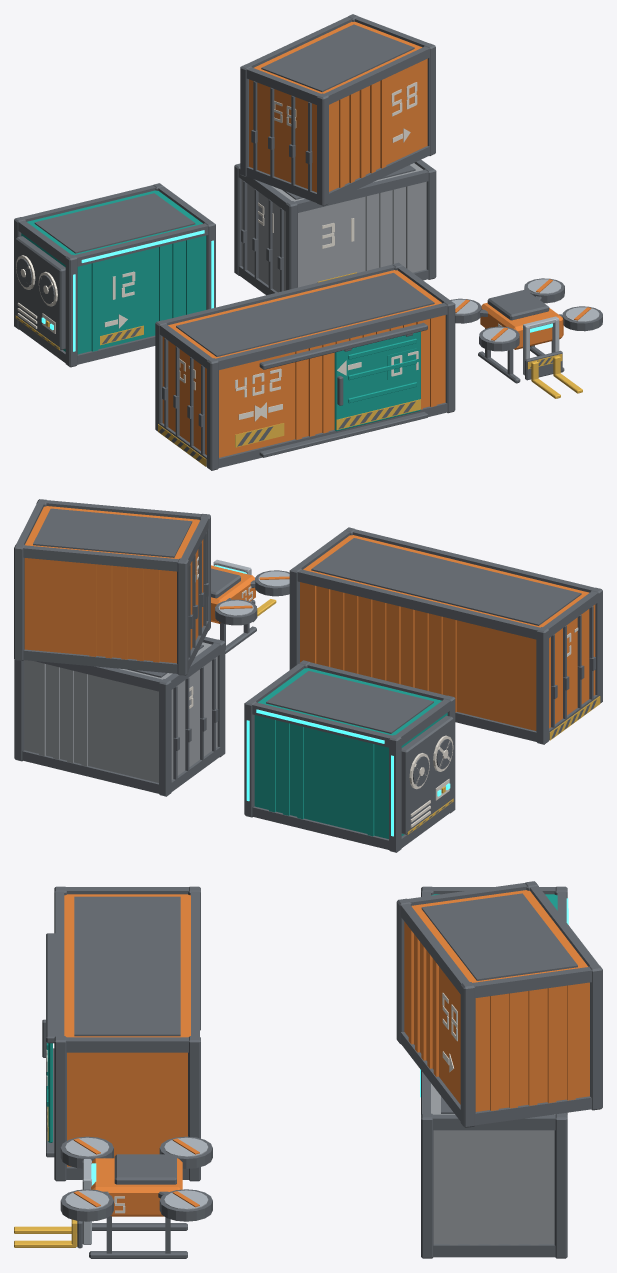
File: futuristic-cargo-container-set.glb
The picture shows the model from 3 angles, top to bottom: view 1: azimuth 30°, elevation 25°; view 2: azimuth 150°, elevation 25°; view 3: azimuth 270°, elevation 25°; orthographic projection. The views are drawn at different scales.
Parts seen in each view (by area): view 1: Container_Stack, Container_Long, Container_Reefer, Cargo_Drone, Door, ForkArm; view 2: Container_Stack, Container_Long, Container_Reefer, Cargo_Drone; view 3: Container_Stack, Container_Long, Cargo_Drone, ForkArm, Container_Reefer, Door.
Boxes of the visible parts, x1,y1,x2,y2 form: Container_Stack: [234, 14, 436, 295]; Container_Long: [155, 262, 455, 470]; Container_Reefer: [14, 183, 215, 367]; Cargo_Drone: [450, 278, 602, 383]; Door: [334, 331, 420, 431]; ForkArm: [525, 350, 582, 398]; Container_Stack: [14, 499, 225, 796]; Container_Long: [289, 527, 602, 744]; Container_Reefer: [244, 660, 455, 852]; Cargo_Drone: [211, 559, 289, 653]; Container_Stack: [396, 881, 602, 1258]; Container_Long: [46, 886, 200, 1181]; Cargo_Drone: [60, 1136, 212, 1258]; ForkArm: [14, 1219, 82, 1248]; Container_Reefer: [420, 886, 568, 1097]; Door: [42, 1019, 52, 1142].
Bounding box in the file's own units: 33.45 × 16.98 × 32.13.
